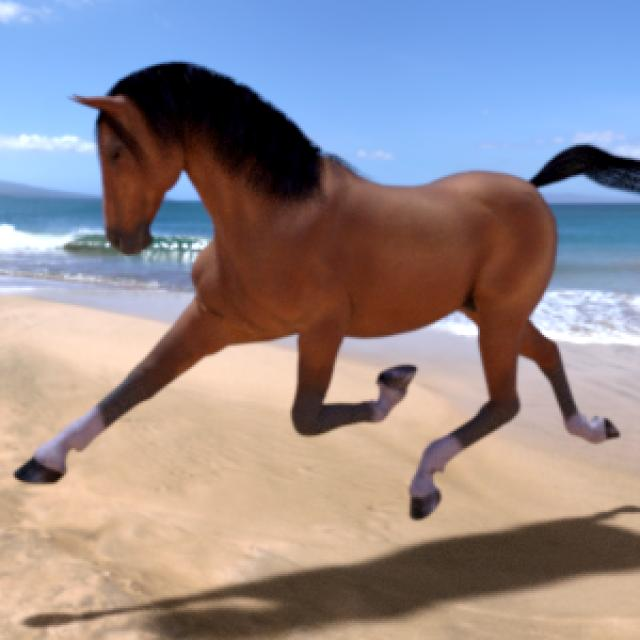horse: (16, 65, 640, 518)
